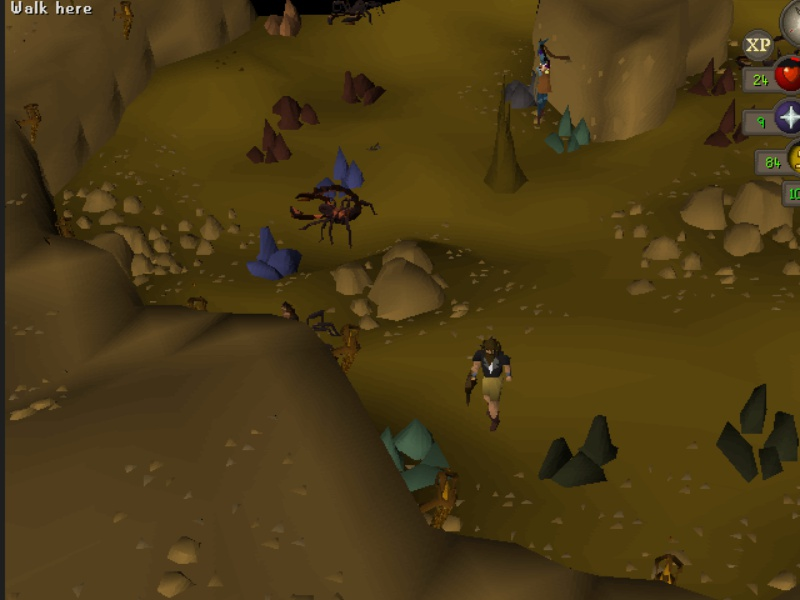adamant: (376, 417, 453, 495), (540, 103, 594, 157)
coal: (713, 381, 800, 485), (536, 413, 622, 490)
copper: (262, 1, 305, 42)
iron: (701, 98, 759, 151), (245, 115, 295, 167), (685, 54, 738, 101), (339, 65, 390, 107), (270, 93, 323, 132)
mithril: (245, 223, 307, 284), (312, 146, 366, 202)
